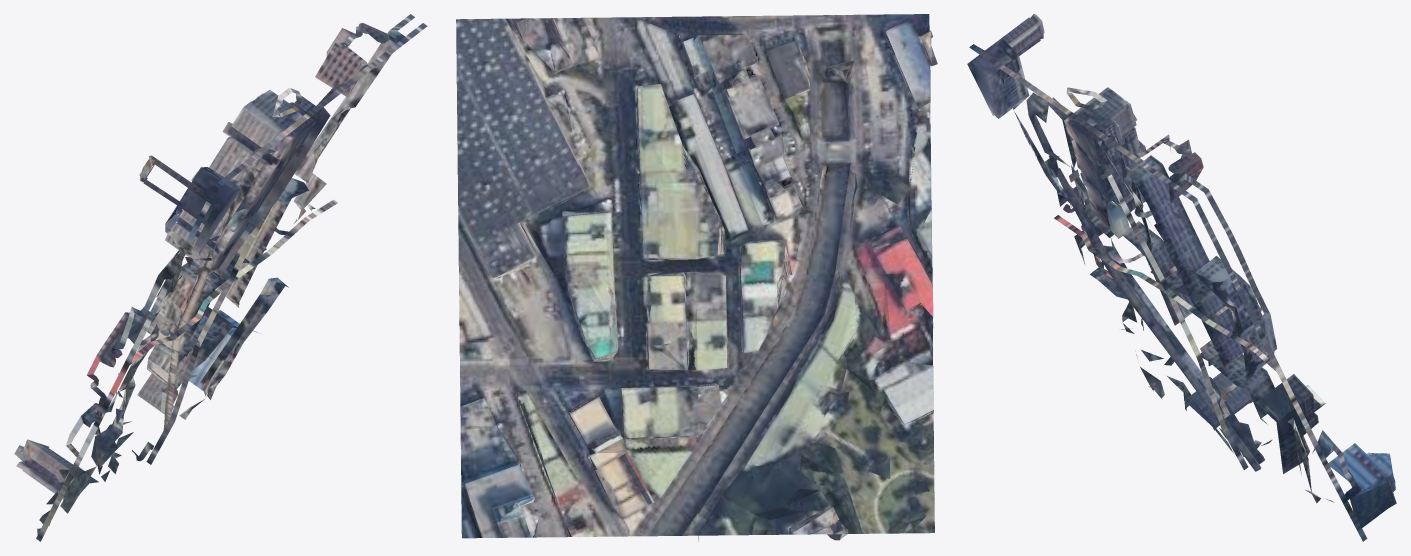
3 renders of one model, left to right at view 1: azimuth 30°, elevation 25°; view 2: azimuth 150°, elevation 25°; view 3: azimuth 270°, elevation 25°, orthographic. The views are drawn at different scales.
Bounding box in the file's own units: 305 × 293 × 279.
1 material, 1 textured.
